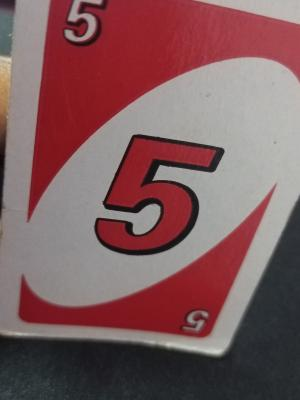num_5: (60, 0, 112, 54), (172, 297, 217, 344)
